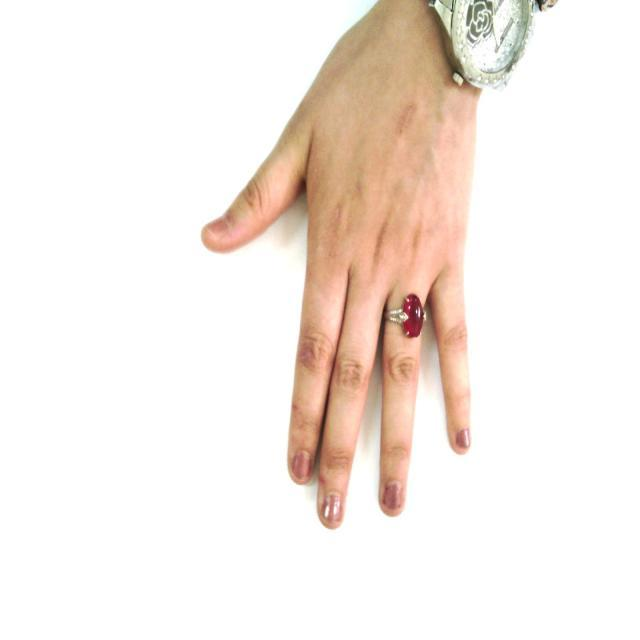Fingernail: (324, 494, 341, 524), (293, 452, 310, 481), (384, 482, 401, 508), (205, 218, 227, 238), (457, 430, 470, 450)
